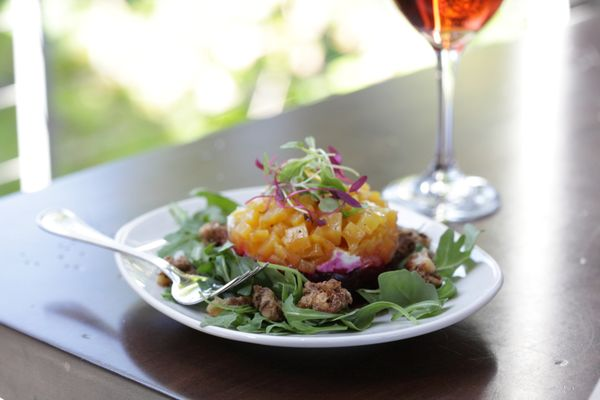curry: (20, 1, 600, 396)
sandwich: (382, 1, 508, 223)
